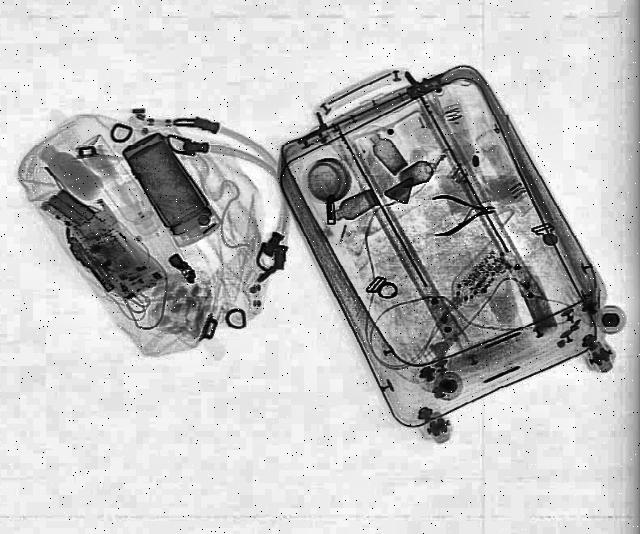Pliers: (432, 197, 496, 239)
